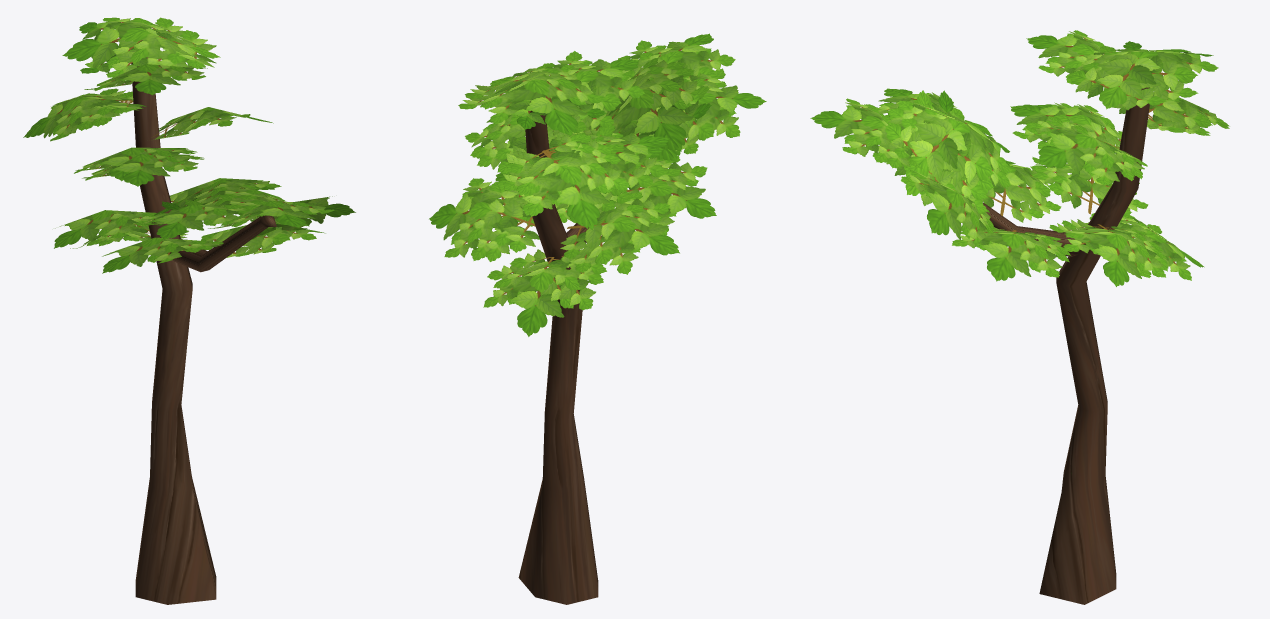
The model's file is Tree_02.fbx.
The picture shows the model from 3 angles, left to right: view 1: azimuth 30°, elevation 25°; view 2: azimuth 150°, elevation 25°; view 3: azimuth 270°, elevation 25°; orthographic projection.
Visible parts, largest first — view 1: pCylinder13; view 2: pCylinder13; view 3: pCylinder13.
Part boxes in pixels (x1=…): pCylinder13: x1=23, y1=17, x2=355, y2=604; pCylinder13: x1=429, y1=33, x2=766, y2=604; pCylinder13: x1=810, y1=30, x2=1229, y2=604.
Bounding box in the file's own units: 9.87 × 18.33 × 13.99.
